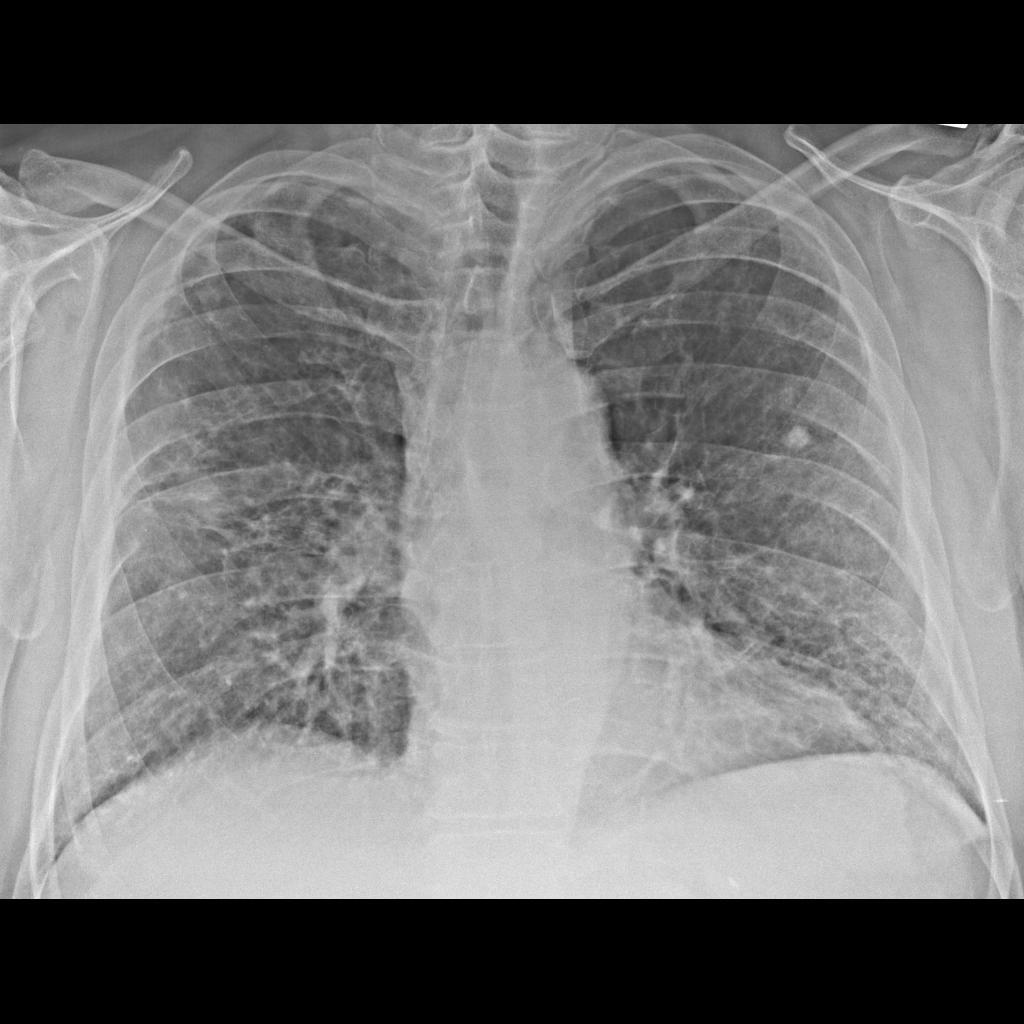Nodule: (784, 421, 833, 457)
